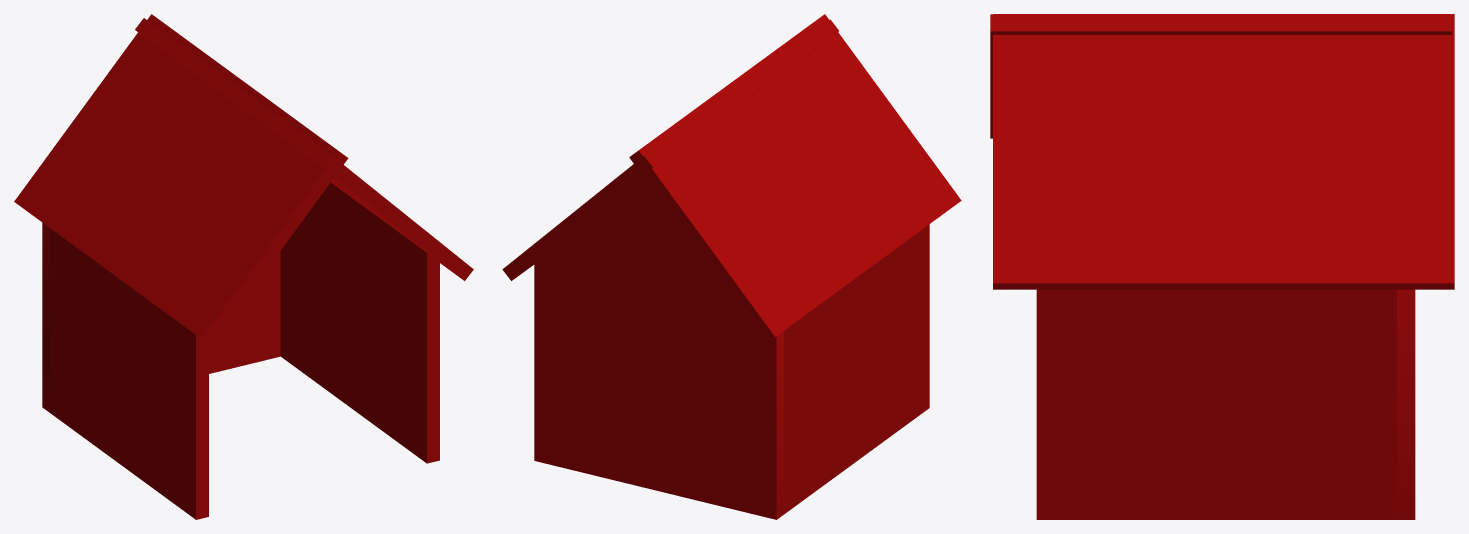
Rendered from Shack.fbx.
3 views of the same model, side by side, from view 1: azimuth 30°, elevation 25°; view 2: azimuth 150°, elevation 25°; view 3: azimuth 270°, elevation 25° (orthographic). The views are drawn at different scales.
Parts seen in each view (by area): view 1: pCube6; view 2: pCube6; view 3: pCube6.
Part boxes in pixels (<box>): pCube6: <box>14,14,473,519</box>; pCube6: <box>502,14,961,519</box>; pCube6: <box>990,14,1454,519</box>.
Bounding box in the file's own units: 1303 × 1603 × 1555.
